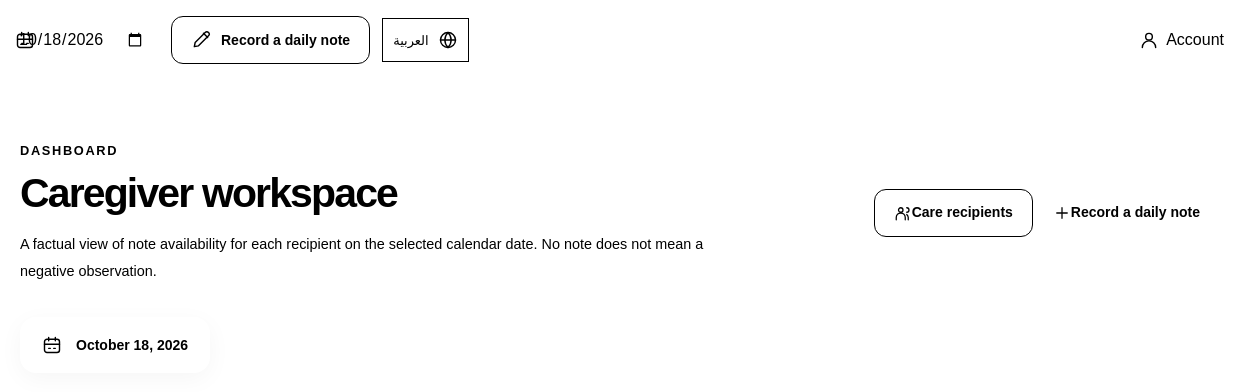
Test case: dashboard locale switching › renders Arabic copy with no leftover English then restores English
(page scrolled)
Check: the heading "Caregiver workspace" is shown, box [20, 170, 397, 216]
Note: The language toggle exposes the name of the language it switches to.
Click the button with aria-label "التغيير إلى العربية".
click(425, 40)  # box [382, 18, 469, 62]
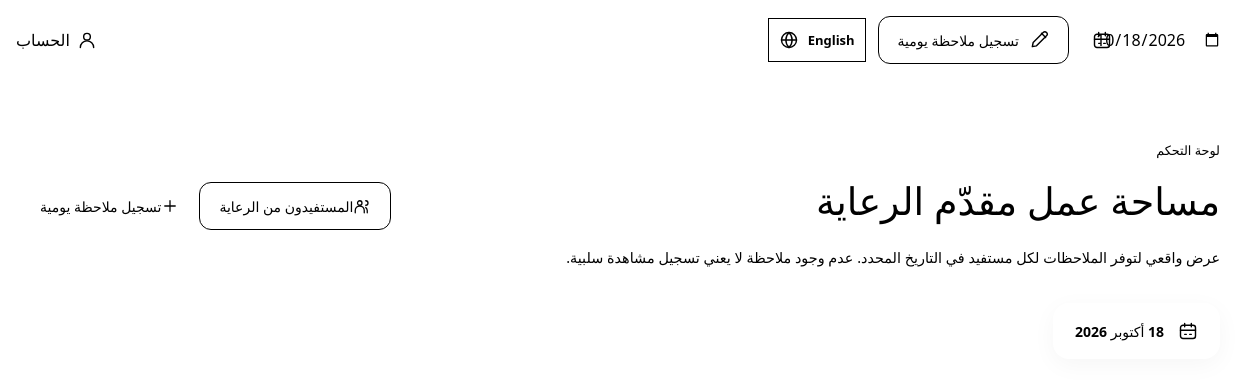
Check: the heading "مساحة عمل مقدّم الرعاية" is shown, box [816, 174, 1220, 226]
Check: the text "عرض واقعي لتوفر الملاحظات لكل مستفيد في التاريخ المحدد. عدم وجود ملاحظة لا يعني تسجيل مشاهدة سلبية." is shown, box [566, 248, 1220, 267]
Check: the heading "Caregiver workspace" is gone
Click the button with aria-label "Switch to English".
click(817, 40)  # box [768, 18, 866, 62]
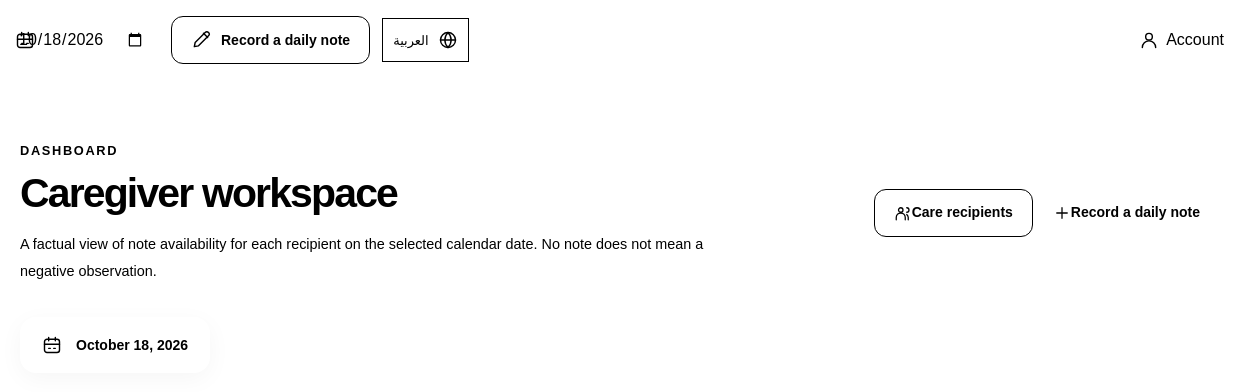
Check: the heading "Caregiver workspace" is shown, box [20, 170, 397, 216]
Check: the text "A factual view of note availability for each recipient on the selected calendar date. No note does not mean a negative o" is shown, box [20, 236, 703, 279]
Check: the text "عرض واقعي لتوفر الملاحظات لكل مستفيد في التاريخ المحدد. عدم وجود ملاحظة لا يعني تسجيل مشاهدة سلبية." is gone
